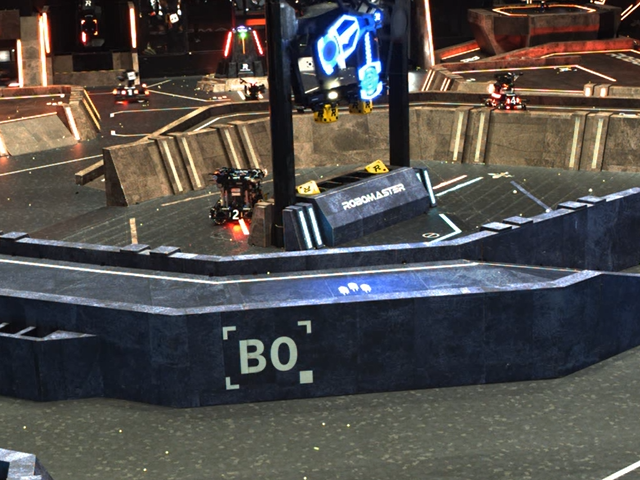rm: (207, 165, 268, 230), (488, 71, 530, 112), (108, 69, 150, 103), (243, 81, 265, 99)
